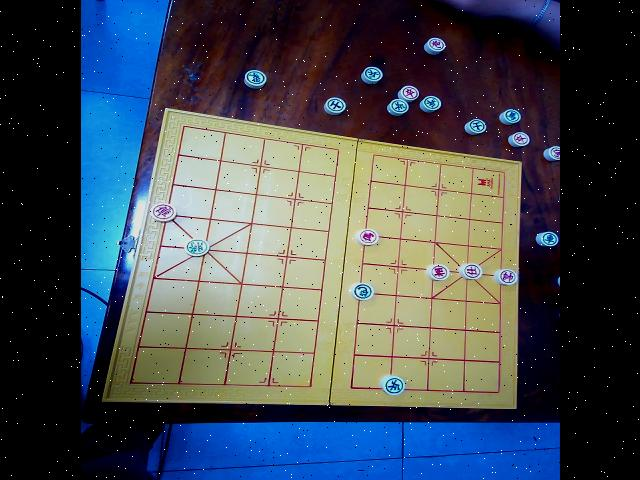piece: (380, 374, 406, 396), (150, 203, 176, 222), (183, 238, 210, 256), (242, 69, 266, 89), (322, 97, 346, 115), (458, 262, 482, 280), (350, 283, 374, 301), (354, 228, 378, 246), (386, 99, 410, 116), (493, 268, 518, 284), (423, 36, 445, 54), (360, 66, 382, 84), (417, 96, 441, 112), (426, 264, 450, 280), (535, 230, 559, 246), (397, 85, 419, 102), (464, 118, 486, 135), (507, 132, 529, 148), (499, 108, 521, 124), (542, 145, 560, 161), (556, 275, 560, 287)
